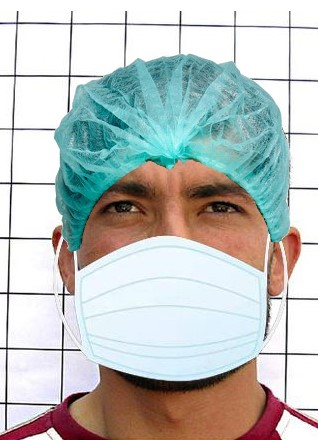with_mask_and_cap: (53, 55, 297, 386)
